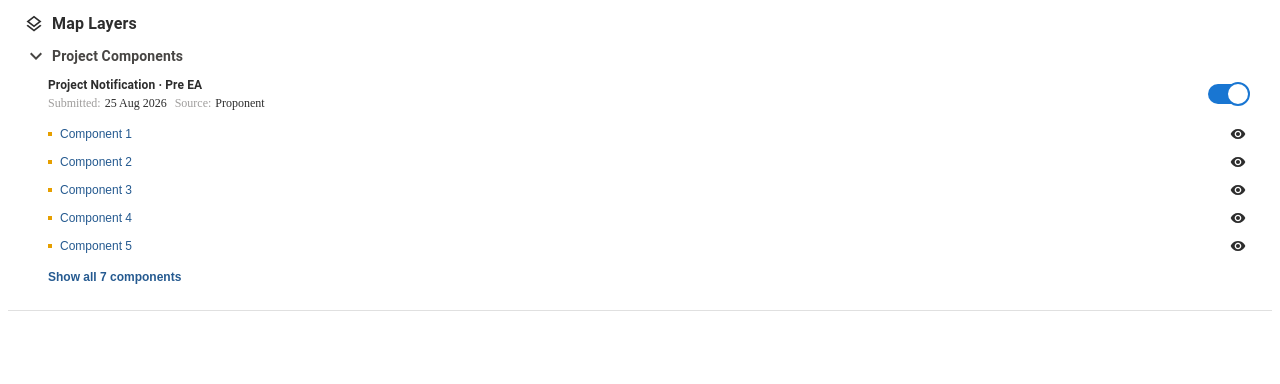
Scenario: selecting a component › keeps the selection in view when the list collapses
Click the button "Show all 7 components". click: (115, 277)
box: [48,268,181,286]
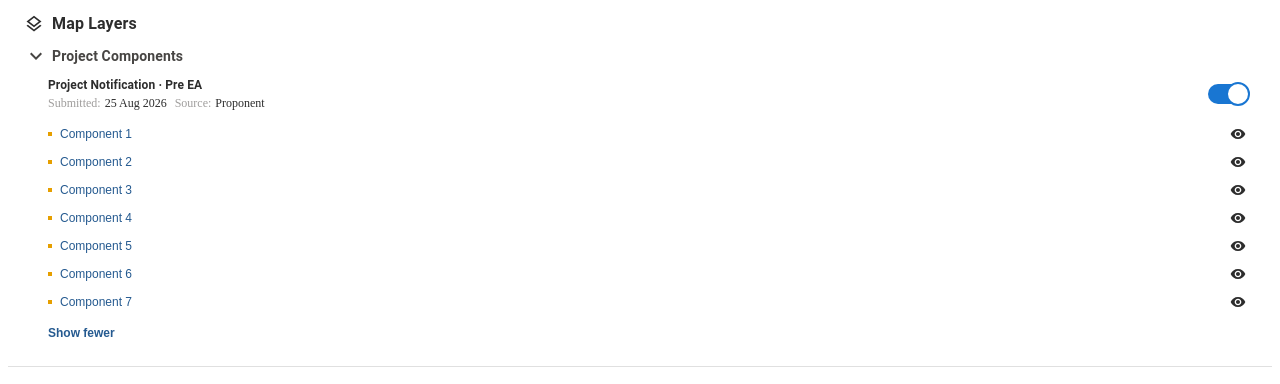
Click the button "Component 7". click: (96, 302)
box: [60,293,1220,311]
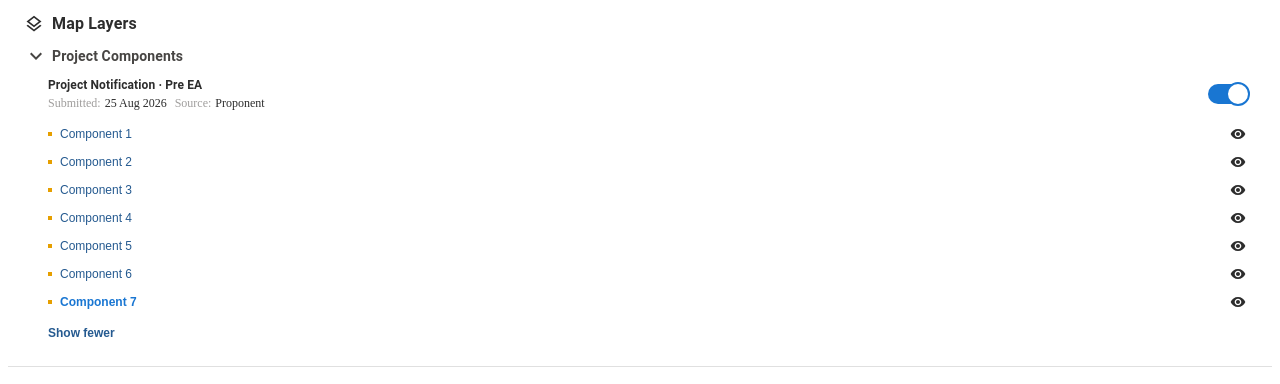
Click the button "Show fewer". click: (81, 333)
box: [48,324,115,342]
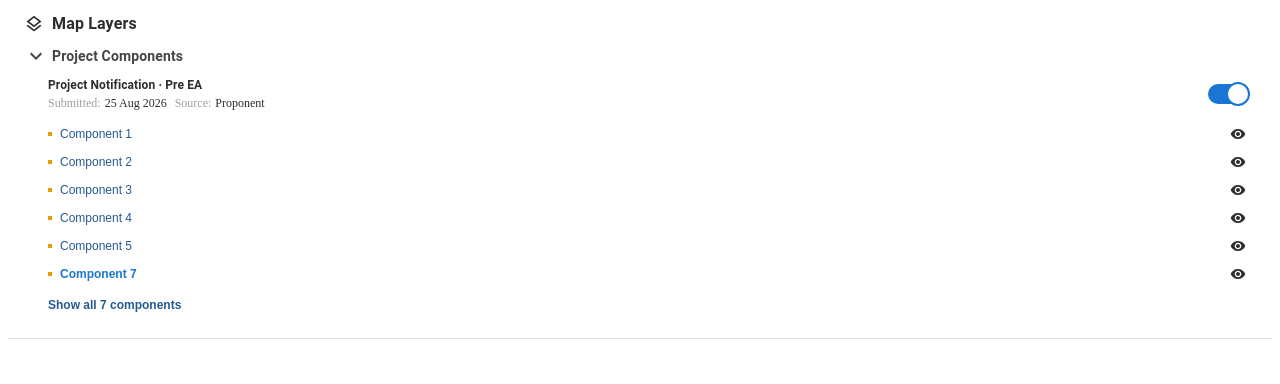
Now the text "Component 7" is shown, box [60,267,137,281]
Now the button "Component 6" is gone
